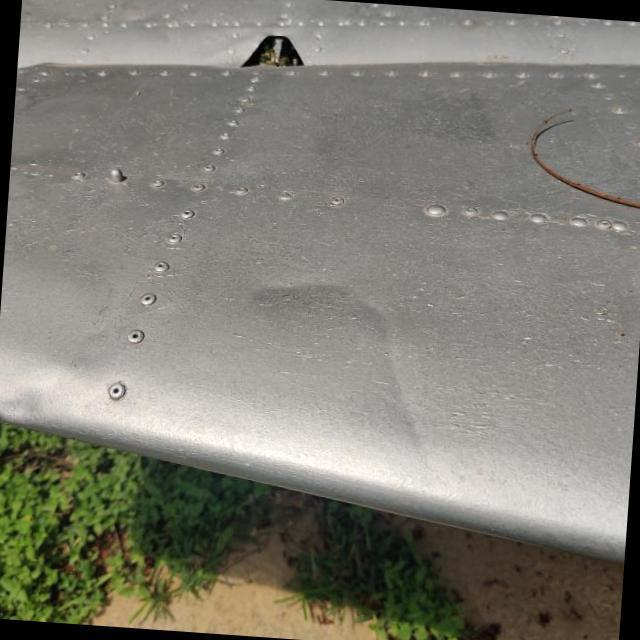Dent: (316, 282, 476, 471), (211, 214, 376, 358), (0, 357, 62, 444)
